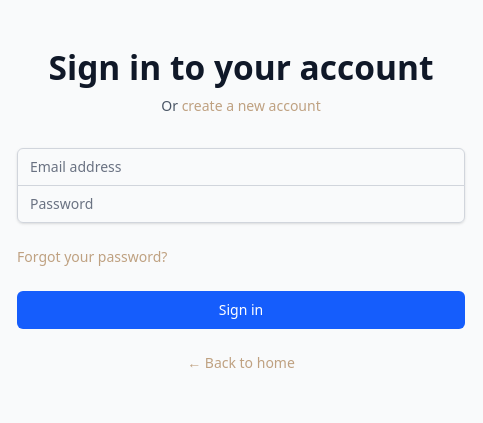
Login › form submission › should display generic error message on unexpected error
Type "test@example.com" into the field labelled "Email address" at x=241, y=167, box [17,148,465,186]
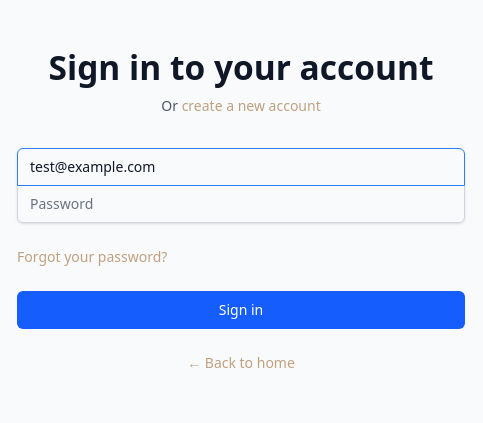
Type "password123" into the password field labelled "Password" at x=241, y=204, box [17,185,465,223]
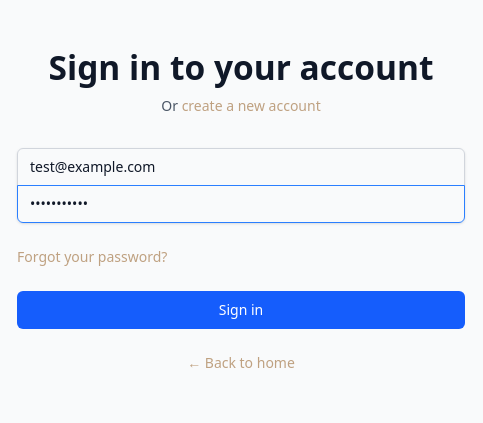
Click the button "Sign in" at x=241, y=310, box [17,291,465,329]
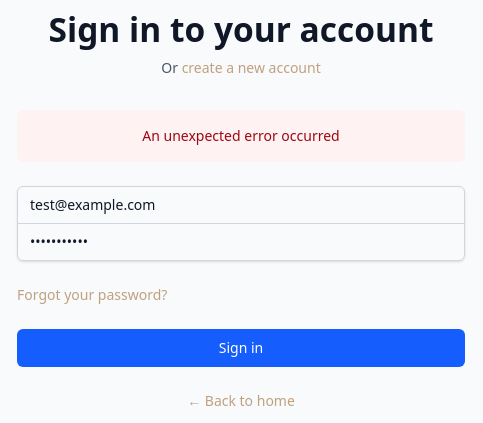
expect the text "An unexpected error occurred" is shown: met, box [142,126,340,145]
